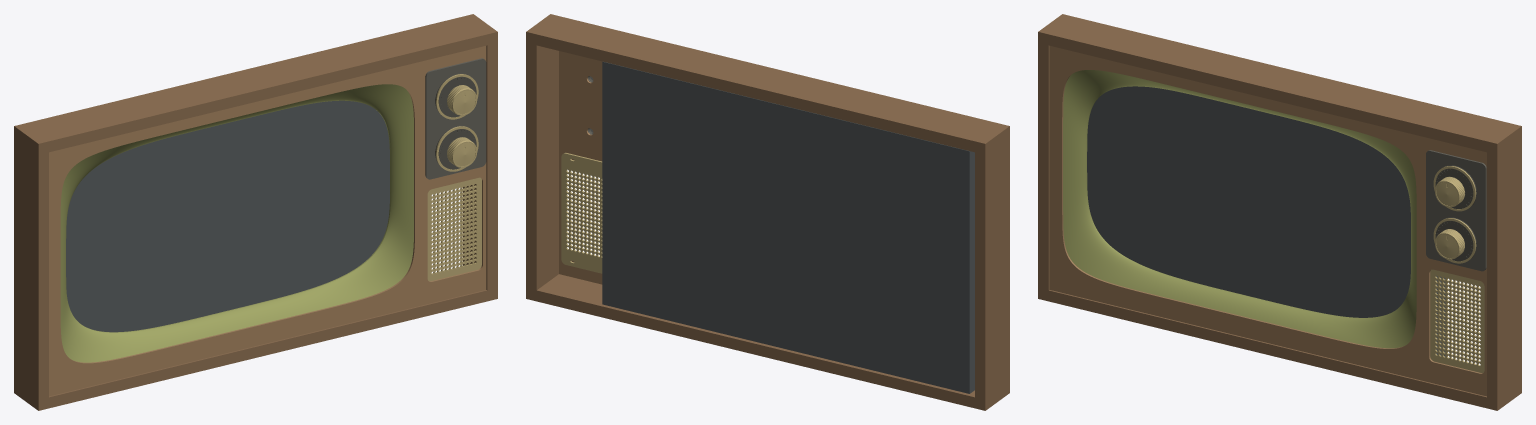
The model's file is front-assembly.glb.
The picture shows the model from 3 angles, left to right: view 1: azimuth 30°, elevation 25°; view 2: azimuth 150°, elevation 25°; view 3: azimuth 330°, elevation 25°; orthographic projection.
Visible parts, largest first — view 1: display, wood, bezel, wood-frame-top, wood-frame-left, wood-frame-bottom, grille, knob-mounting-plate, wood-frame-right, knob-1/dial-plate, knob-2/dial-plate; view 2: display, wood-frame-top, wood-frame-left, wood-frame-right, wood-frame-bottom, wood, grille; view 3: display, wood, bezel, wood-frame-top, wood-frame-right, wood-frame-bottom, grille, knob-mounting-plate, wood-frame-left, knob-2/dial-plate, knob-1/dial-plate.
Boxes of the visible parts, <box> form: display: <box>66,100,389,332</box>; wood: <box>49,46,486,396</box>; bezel: <box>60,84,413,362</box>; wood-frame-top: <box>14,14,497,152</box>; wood-frame-left: <box>14,126,48,410</box>; wood-frame-bottom: <box>39,290,497,410</box>; grille: <box>427,177,481,281</box>; knob-mounting-plate: <box>425,58,486,179</box>; wood-frame-right: <box>463,32,497,298</box>; knob-1/dial-plate: <box>435,73,476,117</box>; knob-2/dial-plate: <box>435,125,476,169</box>; display: <box>602,61,974,393</box>; wood-frame-top: <box>526,14,1009,152</box>; wood-frame-left: <box>975,126,1009,410</box>; wood-frame-right: <box>526,32,558,298</box>; wood-frame-bottom: <box>526,274,984,410</box>; wood: <box>559,51,602,284</box>; grille: <box>561,152,602,273</box>; display: <box>1087,86,1445,356</box>; wood: <box>1049,46,1486,396</box>; bezel: <box>1063,70,1416,348</box>; wood-frame-top: <box>1038,14,1521,152</box>; wood-frame-right: <box>1487,126,1521,410</box>; wood-frame-bottom: <box>1038,290,1496,410</box>; grille: <box>1430,269,1484,372</box>; knob-mounting-plate: <box>1426,150,1486,271</box>; wood-frame-left: <box>1038,32,1049,298</box>; knob-2/dial-plate: <box>1435,217,1476,261</box>; knob-1/dial-plate: <box>1435,165,1476,208</box>.
Size of the model in its own units: 829 by 461 by 104.
